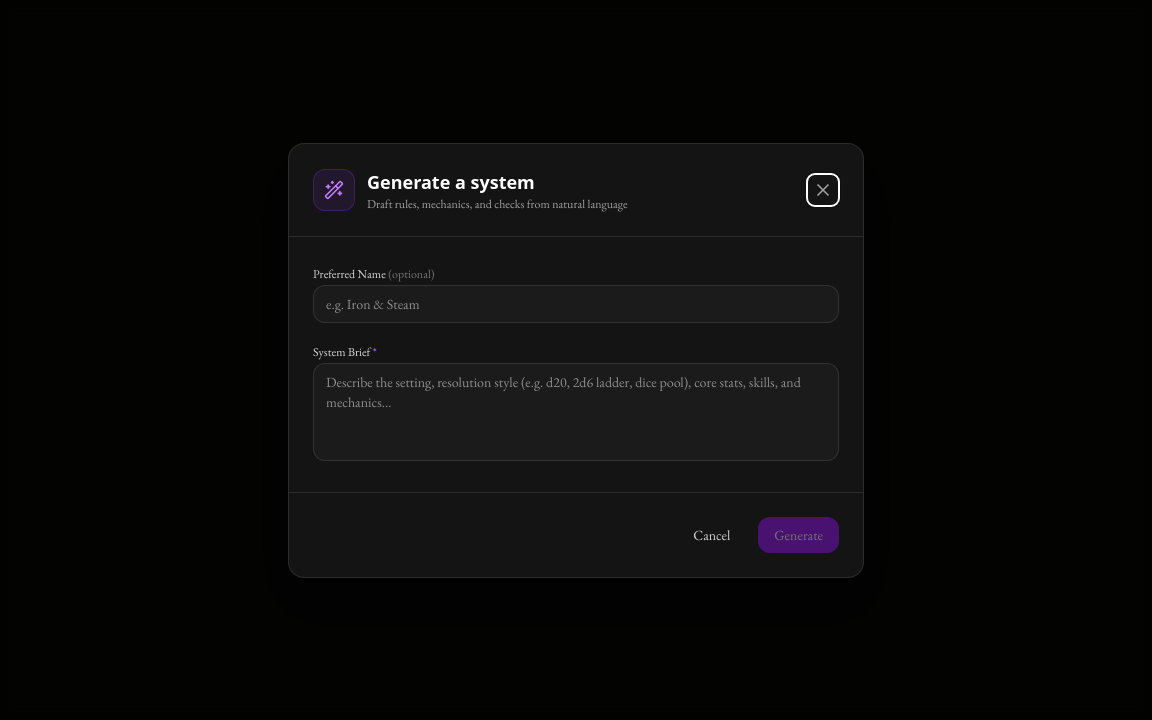
Test case: SystemGenerateDialog › collects a brief and shows step progress
The width and height of the screenshot is (1152, 720).
Step 1. Replace the text in the text box labelled "System Brief *" with "a steampunk d20 system" → (576, 412), box [313,362,839,460]
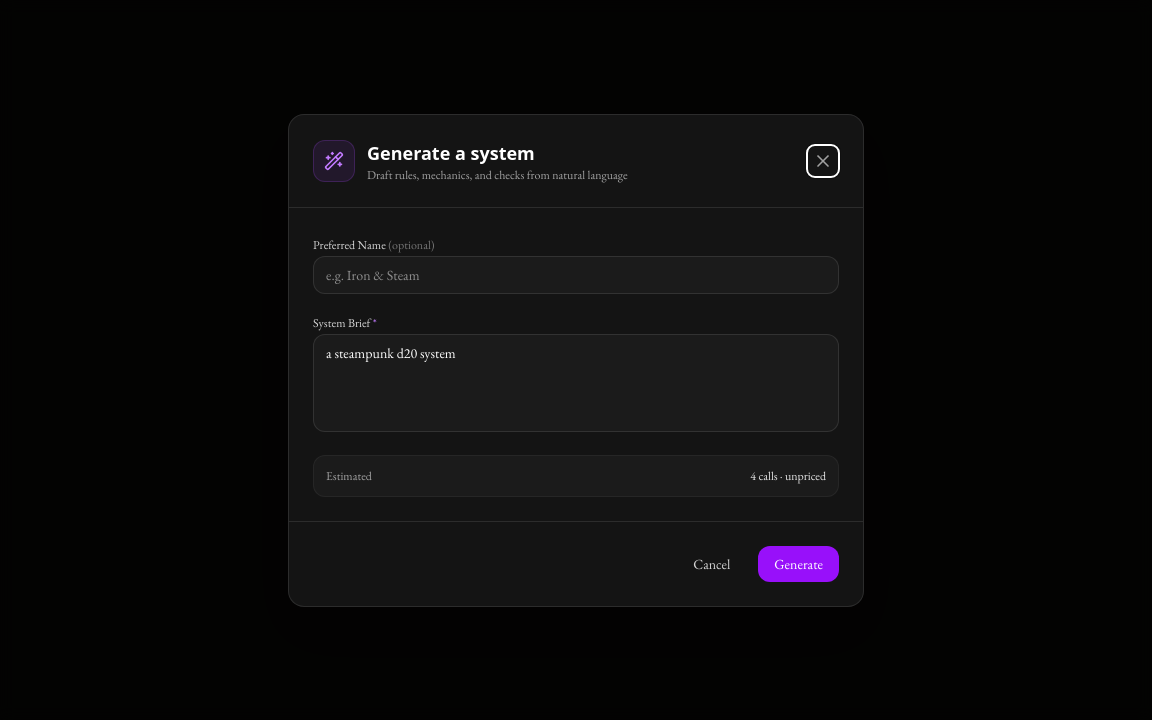
Now the element with test id "generation-estimate" shows "4 calls", box [313,454,839,496]
Now the element with test id "generation-estimate" shows "unpriced", box [785,468,826,484]
Step 2. Click the button "Generate" → (799, 564), box [758,546,839,582]
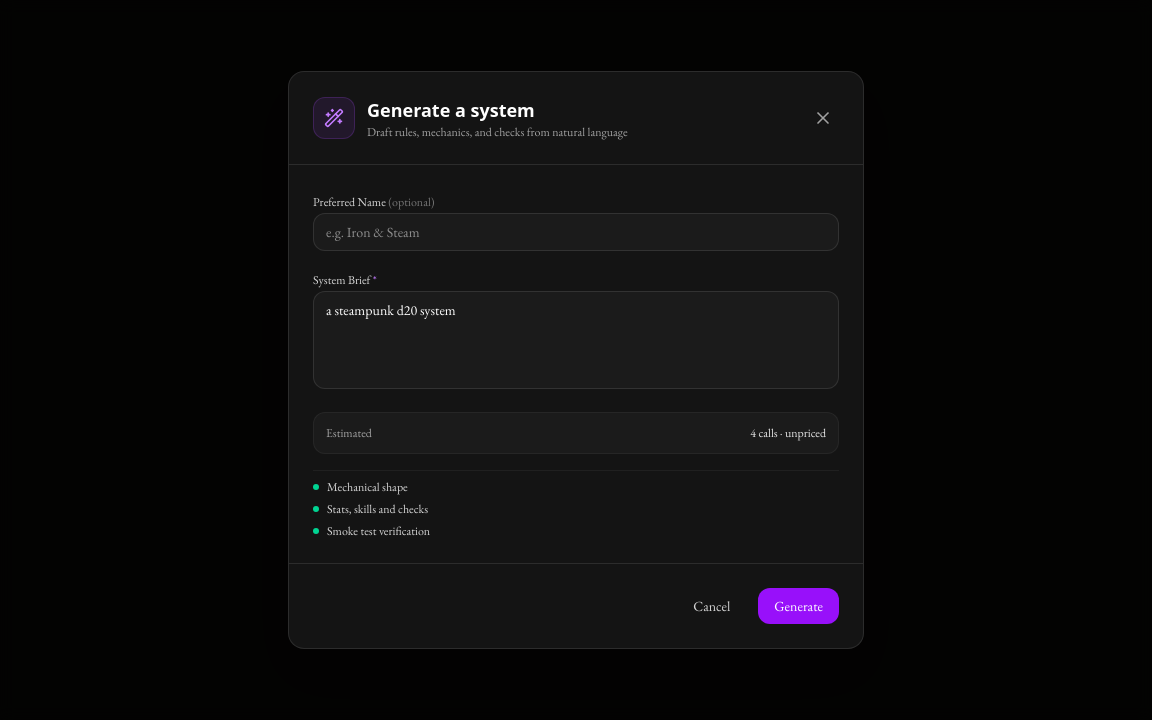
Now the text "Mechanical shape" is shown, box [327,479,408,495]
Now the text "Stats, skills and checks" is shown, box [327,501,428,517]
Now the text "Smoke test verification" is shown, box [327,523,430,539]
